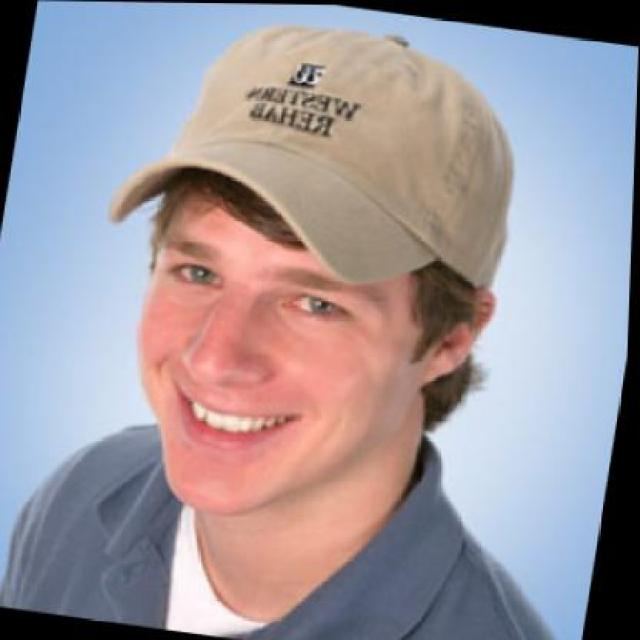hat: (98, 2, 544, 303)
